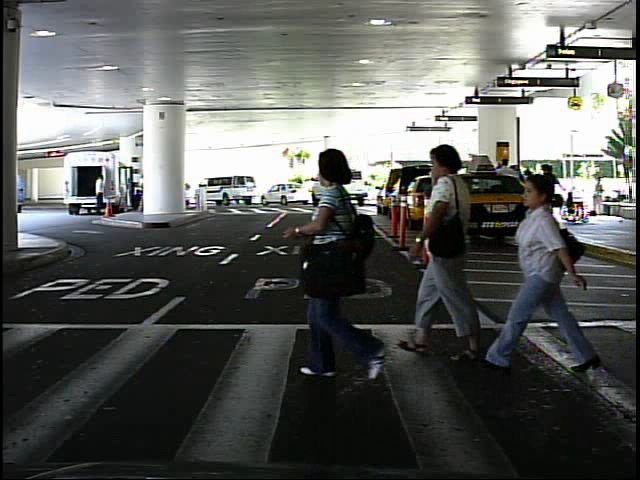person: (299, 138, 396, 386), (479, 172, 591, 380), (395, 141, 496, 364), (91, 170, 109, 220), (589, 172, 607, 218)
